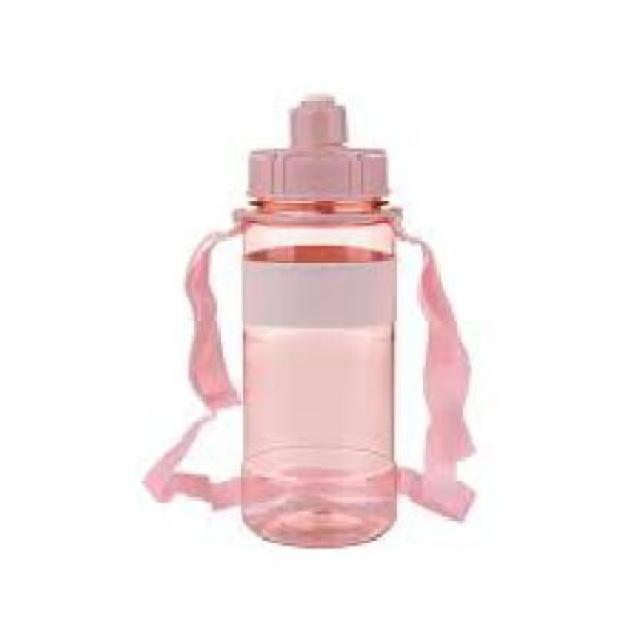Drinking: (214, 68, 446, 556)
